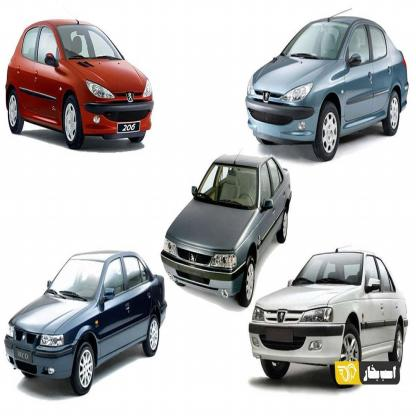Car: (248, 246, 409, 398), (4, 250, 166, 396), (244, 17, 408, 151), (4, 14, 154, 155), (158, 155, 292, 299)
